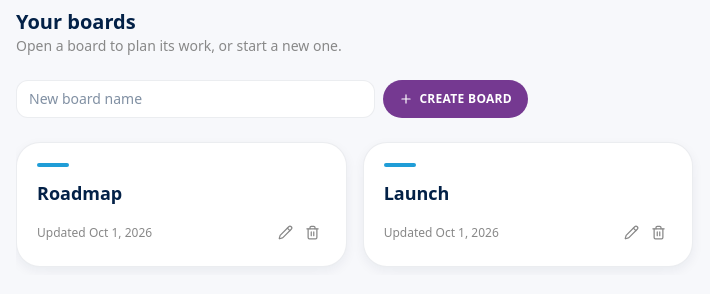
BoardList › cancelling a rename keeps the name and sends nothing
Expected: the button "Roadmap" is shown, [37,179,326,207]
Click the button named "Rename Roadmap" at (285, 232), box [272,219,299,246]
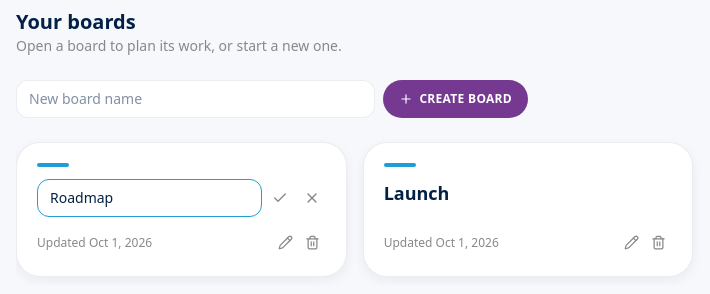
Type " draft" into the field named "Board name" at (149, 198), box [37,179,262,217]
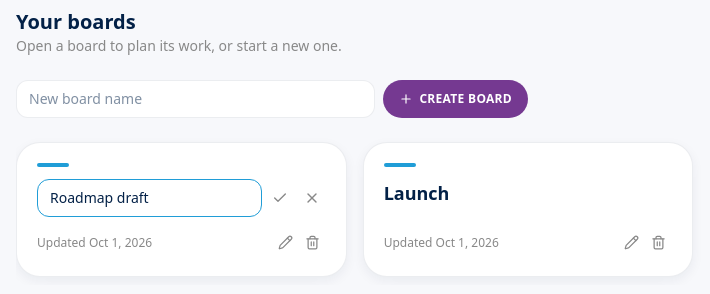
Click the button named "Cancel rename" at (312, 198), box [298,184,326,212]
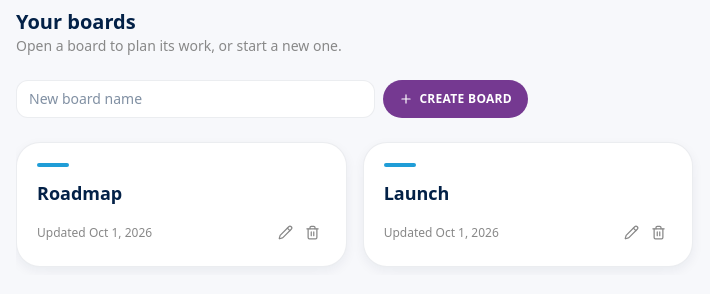
Result: the button "Roadmap" is shown at [37,179,326,207]
